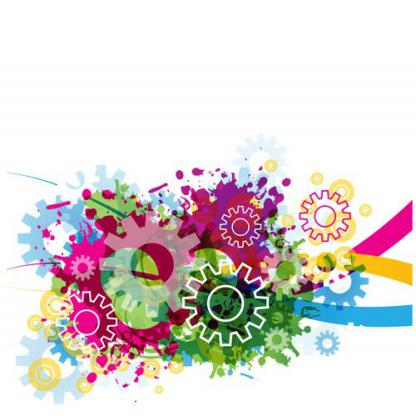FOD: (182, 256, 272, 350), (297, 188, 354, 244), (312, 327, 342, 359)
